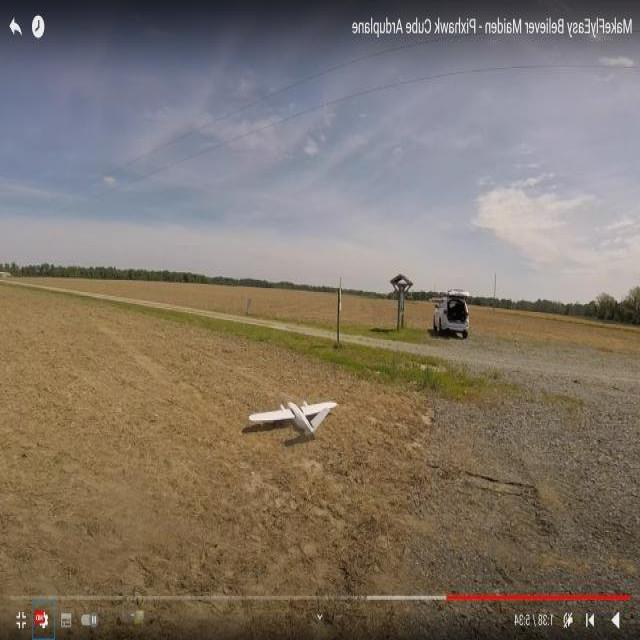UAV: (242, 389, 327, 447)
